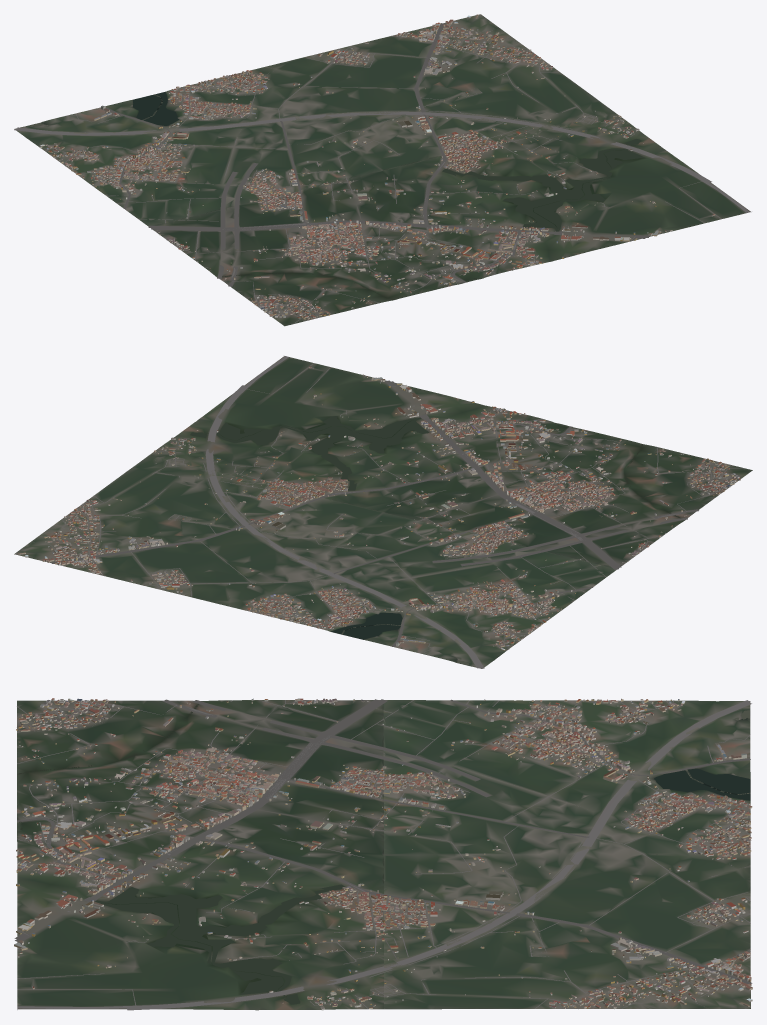
3 views of the same model, one above another, from view 1: azimuth 30°, elevation 25°; view 2: azimuth 150°, elevation 25°; view 3: azimuth 270°, elevation 25° (orthographic). The views are drawn at different scales.
Visible parts, largest first — view 1: ground, buildings, roads, water; view 2: ground, buildings, roads, water; view 3: ground, buildings, roads, water.
Boxes of the visible parts, left/top/right/bottom form: ground: left=14, top=14, right=750, bottom=326; buildings: left=39, top=14, right=715, bottom=319; roads: left=14, top=21, right=749, bottom=324; water: left=29, top=92, right=644, bottom=299; ground: left=14, top=356, right=752, bottom=668; buildings: left=17, top=366, right=740, bottom=650; roads: left=16, top=356, right=743, bottom=668; water: left=190, top=416, right=679, bottom=665; ground: left=17, top=700, right=750, bottom=1010; buildings: left=14, top=698, right=752, bottom=1010; roads: left=14, top=699, right=752, bottom=1010; water: left=18, top=704, right=750, bottom=1004.
Bounding box in the file's own units: 2816 × 32.42 × 2825.
